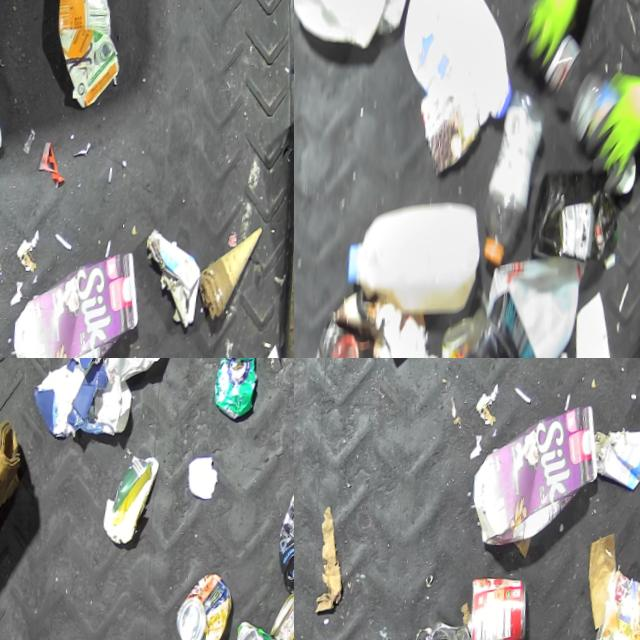can: (474, 575, 542, 640), (180, 574, 244, 640), (211, 358, 266, 423), (601, 570, 640, 640), (278, 478, 294, 598), (446, 319, 485, 358), (427, 619, 489, 640), (241, 621, 294, 640), (275, 595, 294, 640)
milk_jug: (347, 201, 495, 327), (393, 0, 529, 133), (490, 255, 600, 358), (294, 0, 404, 58)
non_white_jug: (473, 409, 614, 555)
plastic_bottle: (480, 90, 559, 272)
